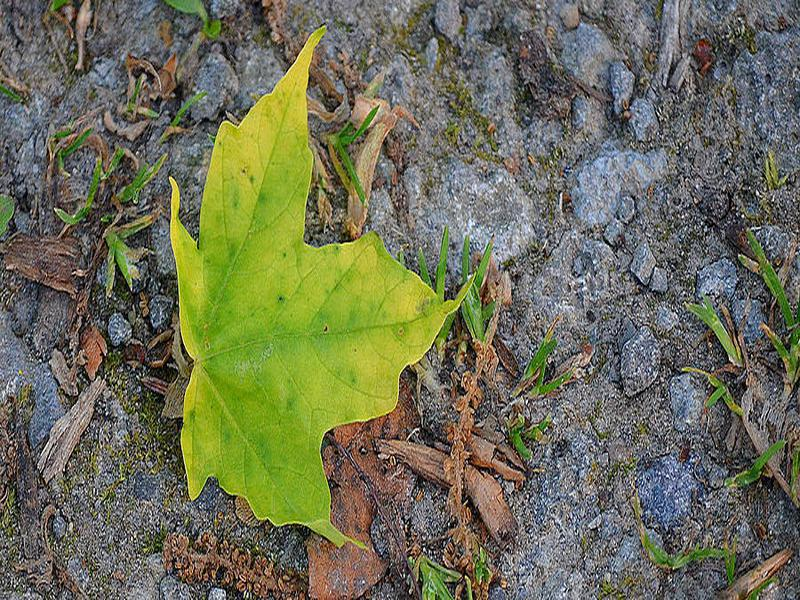leaf: (148, 24, 487, 561)
